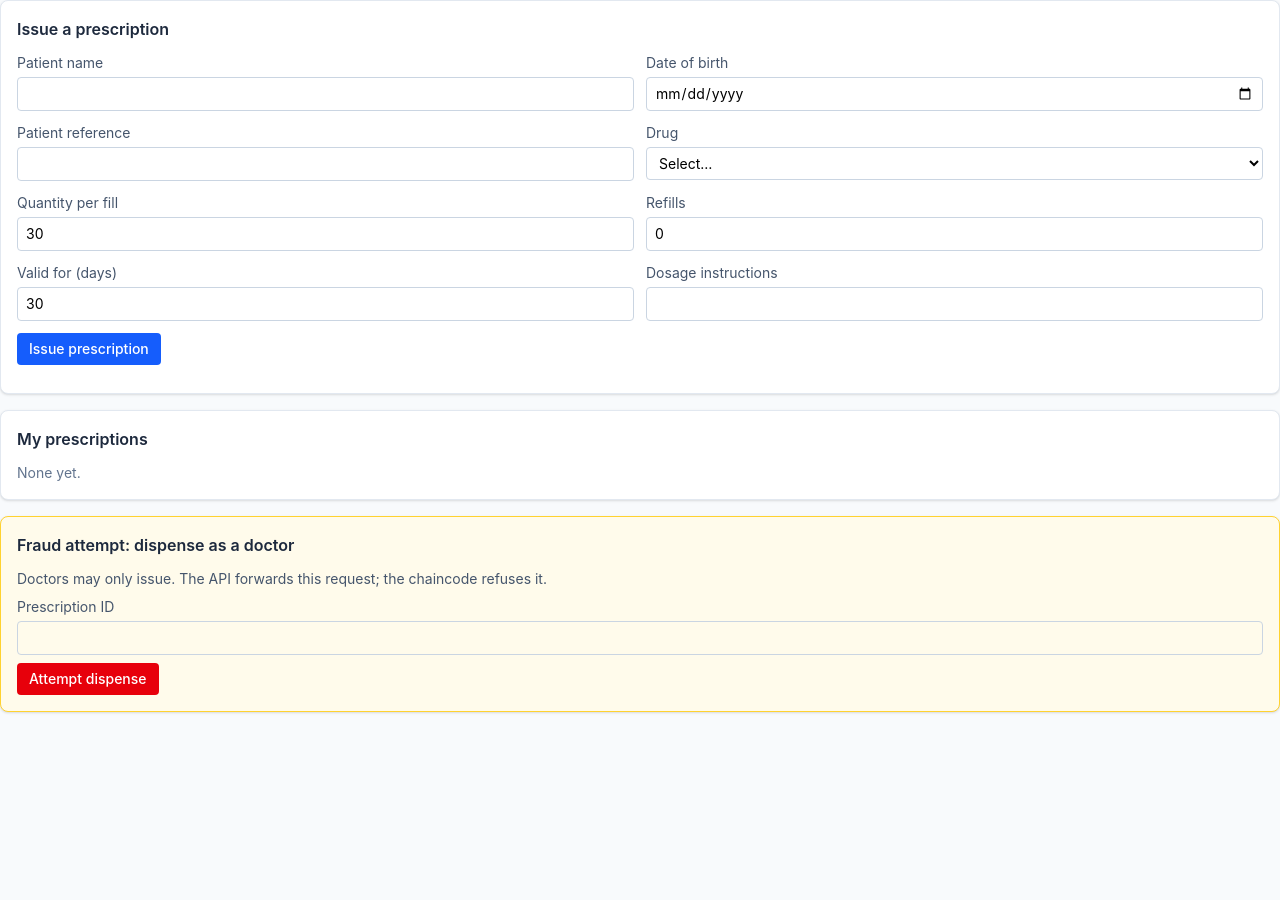
Test: DoctorView › shows R6 when the chaincode rejects refills for an NDPS drug
The image size is (1280, 900).
Select "Morphine sulfate 10 mg tablet — NDPS (max 0 refills)" in the dropdown labelled "Drug": [954, 164] box [646, 147, 1263, 180]
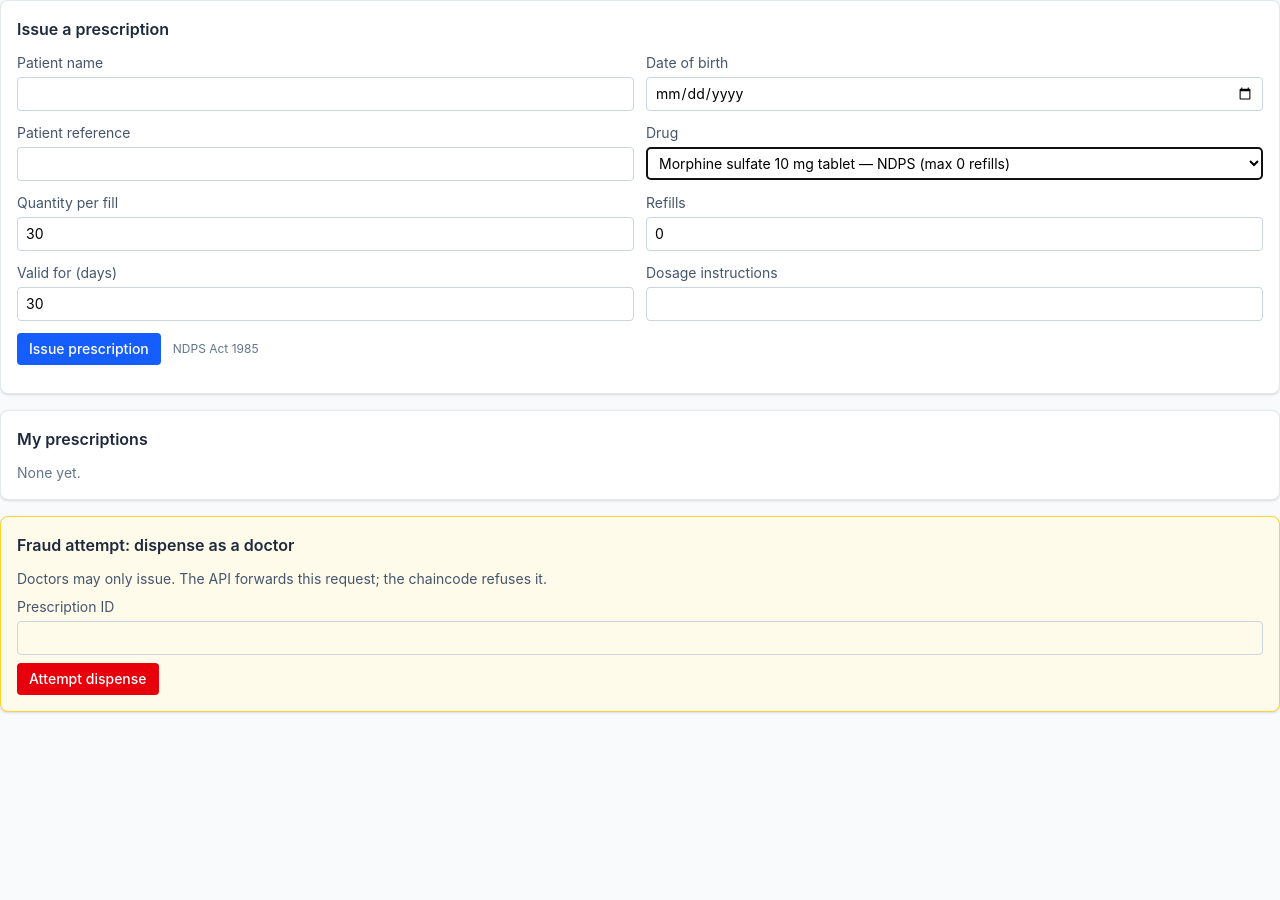
In the field labelled "Patient name": [326, 94] box [17, 77, 634, 111], type "P"
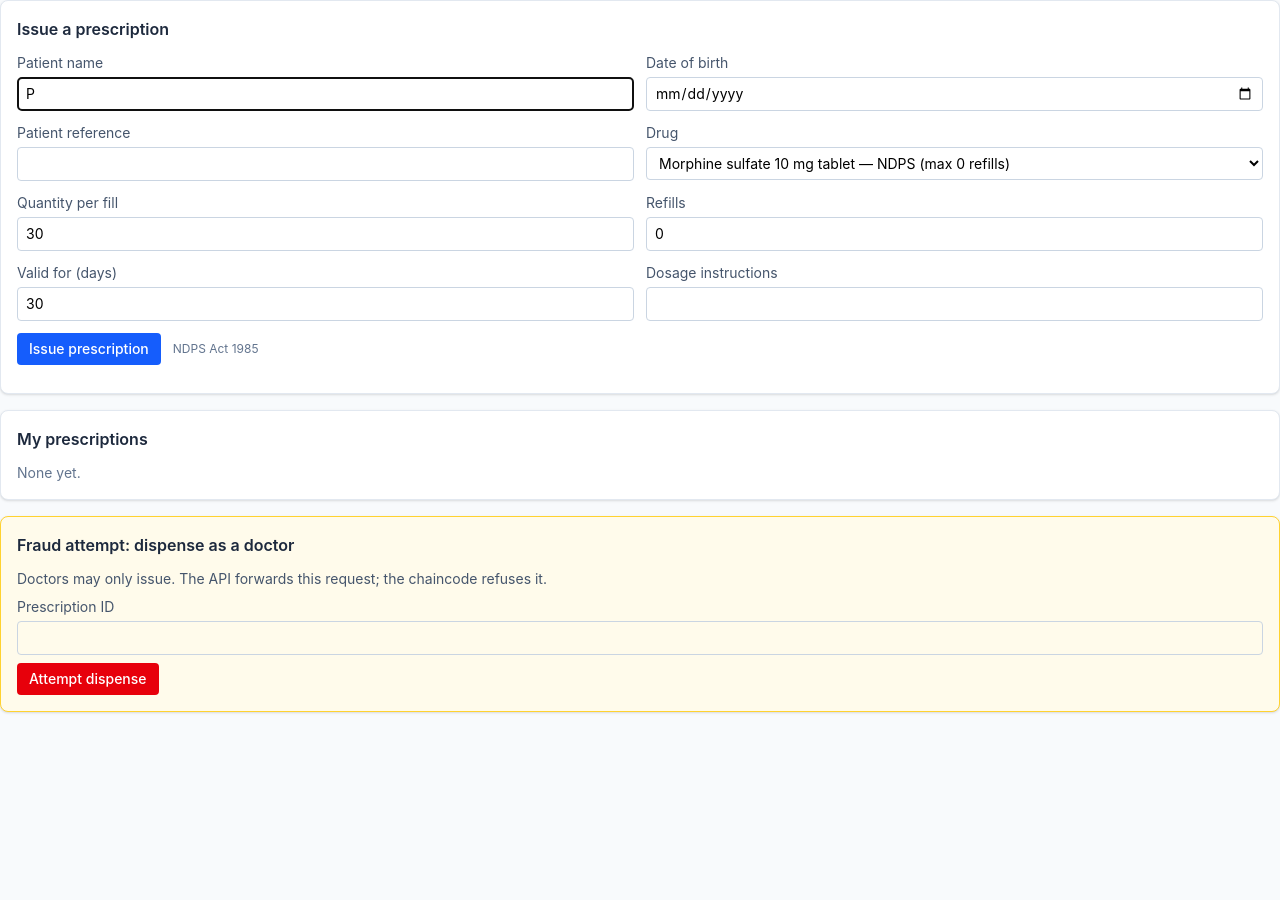
In the date field labelled "Date of birth": [954, 94] box [646, 77, 1263, 111], type "1985-03-12"
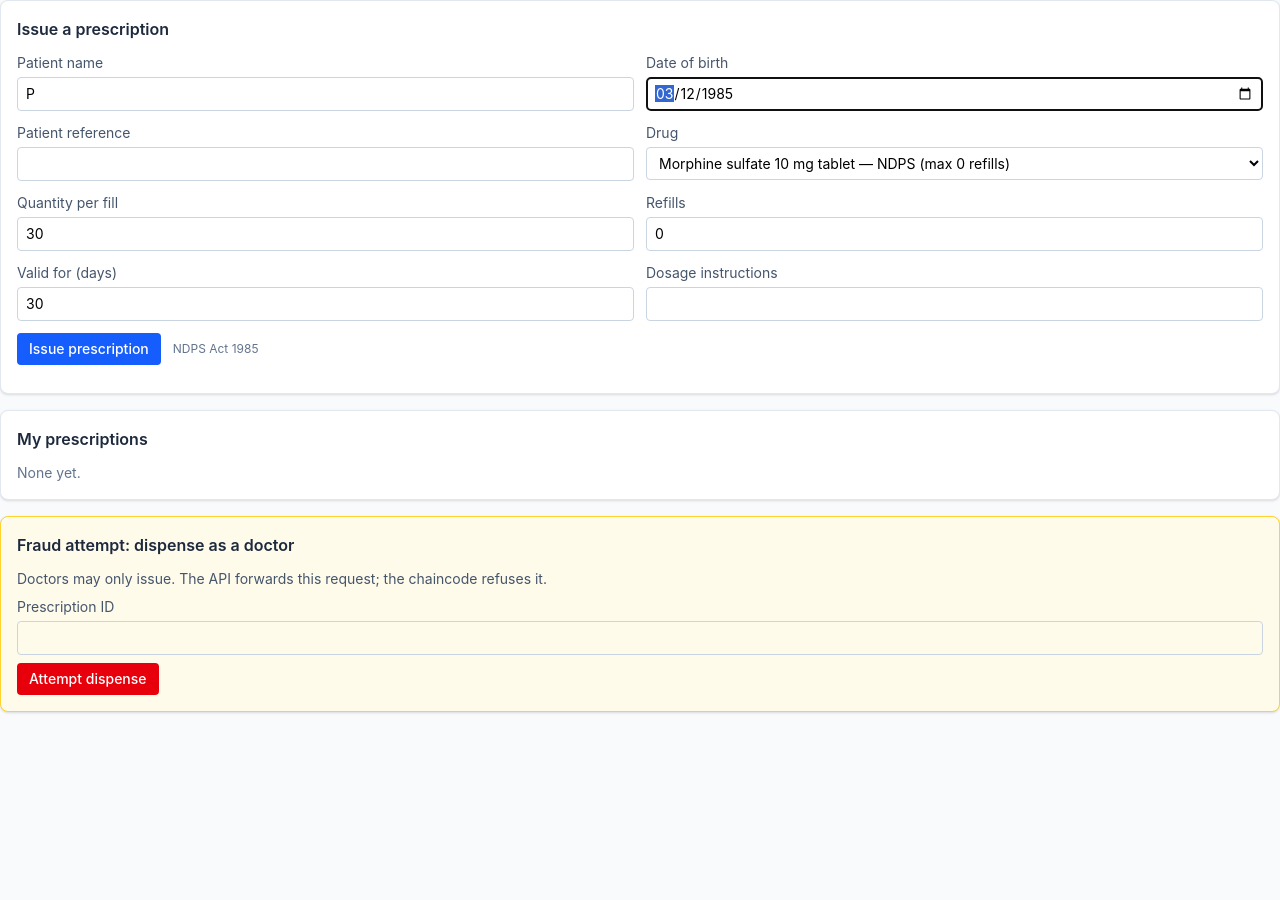
In the field labelled "Patient reference": [326, 164] box [17, 147, 634, 181], type "R"
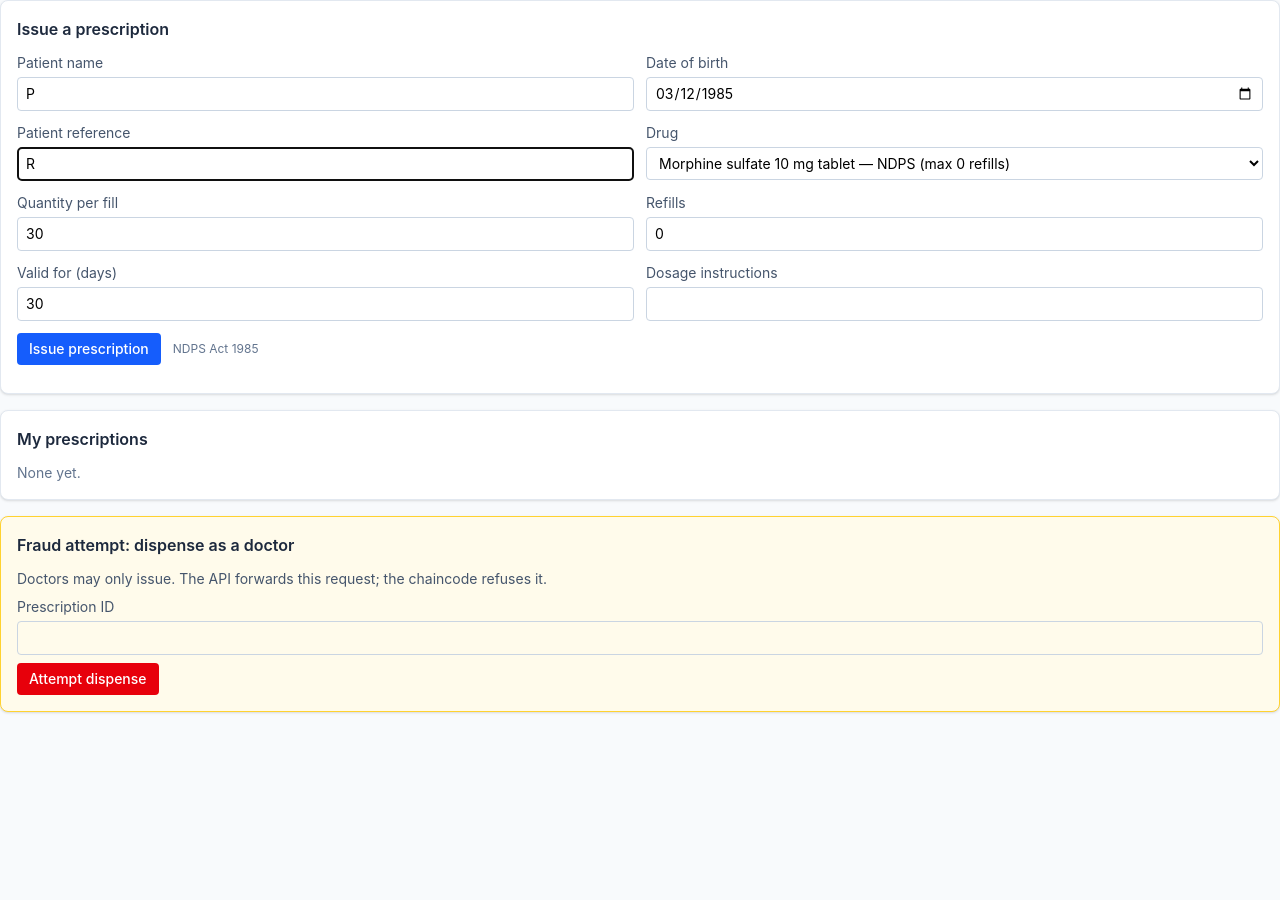
In the field labelled "Dosage instructions": [954, 304] box [646, 287, 1263, 321], type "D"
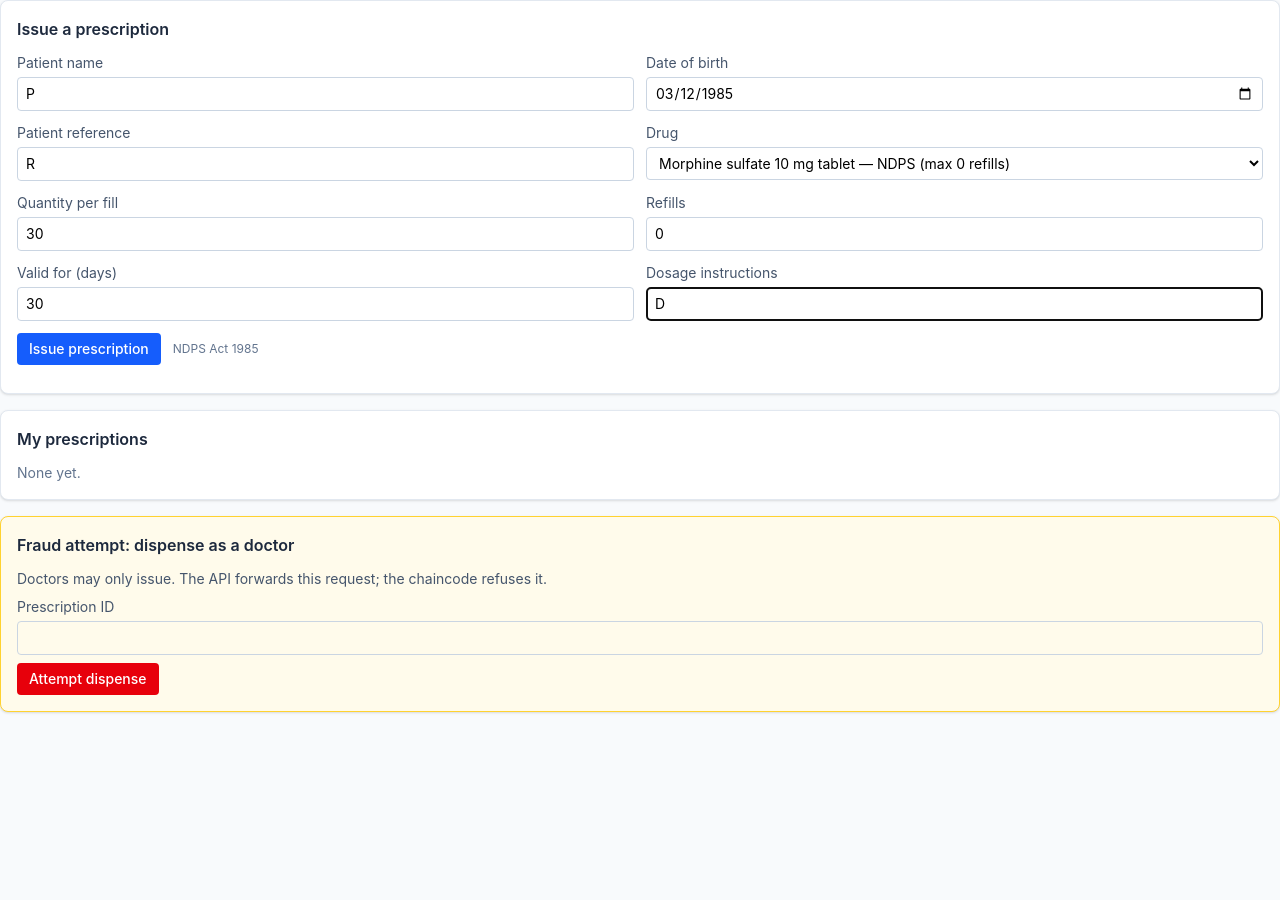
Click the button "Issue prescription": [89, 349] box [17, 333, 161, 365]
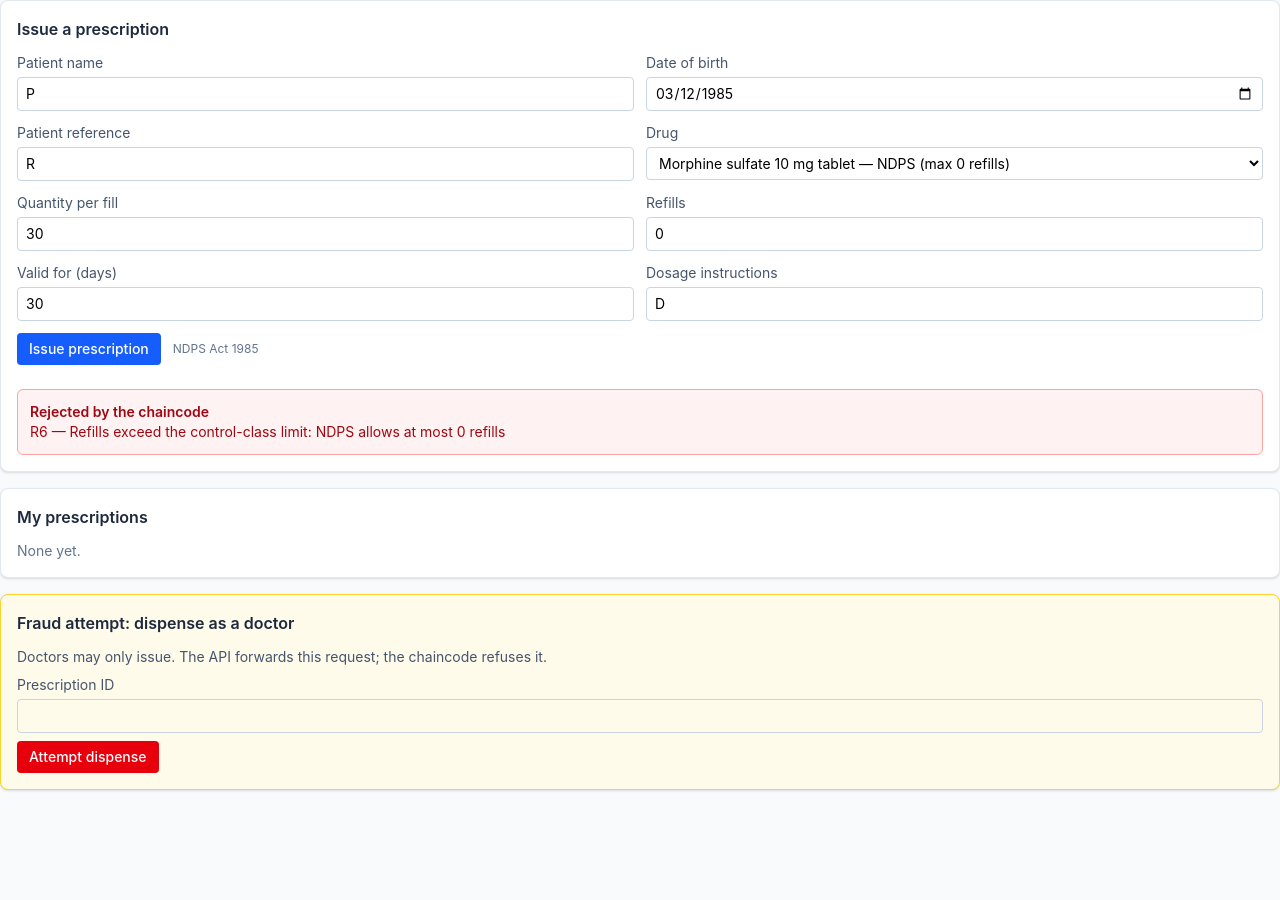
Result: the message shows "R6 — Refills exceed the control-class limit" at [30, 423, 505, 440]
